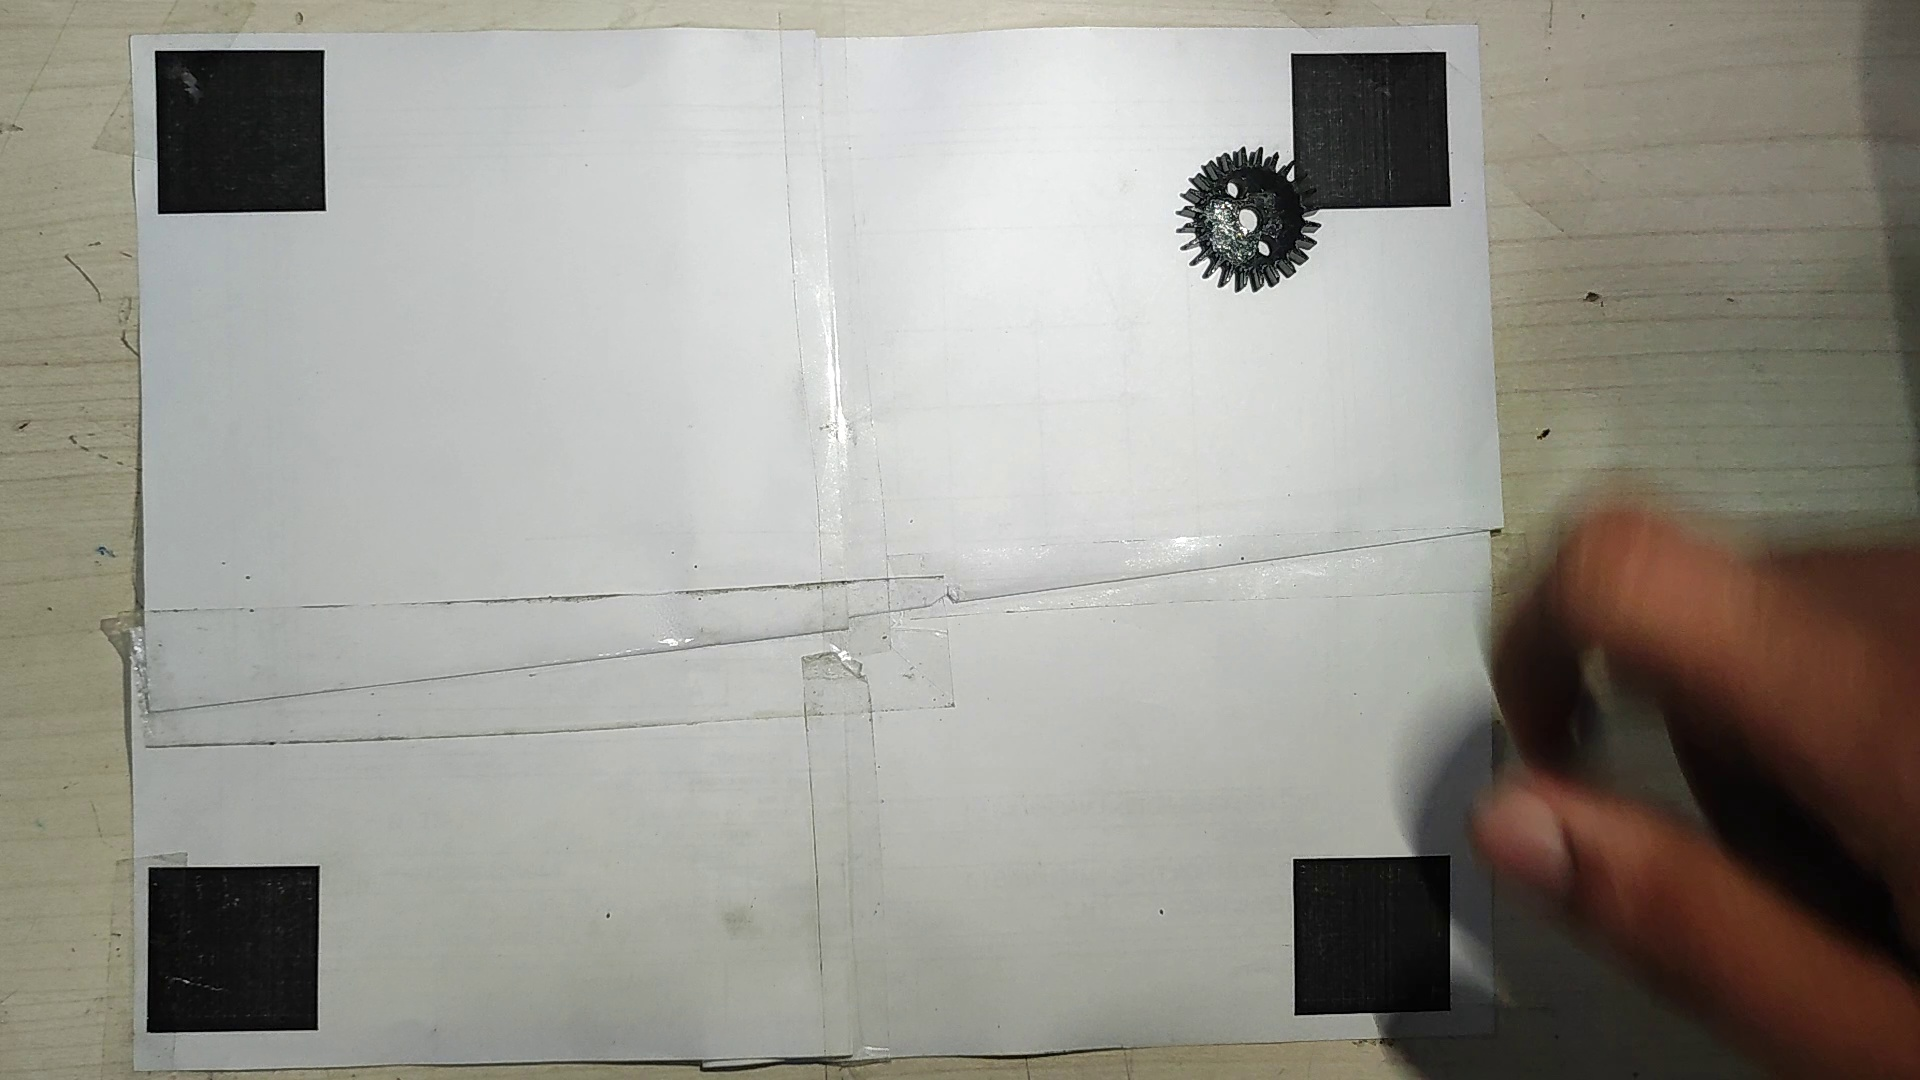Gear: (1168, 144, 1323, 293)
